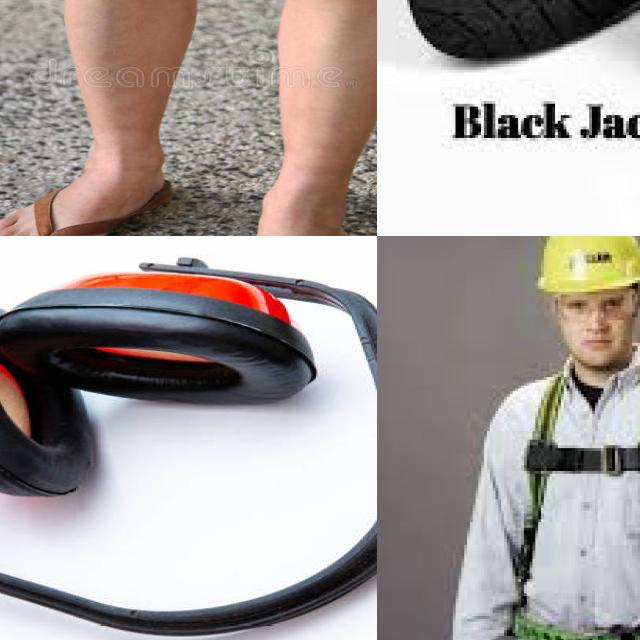Ear-protection: (0, 236, 377, 640)
Harness: (501, 358, 640, 640)
Sandals: (387, 0, 640, 210), (0, 135, 172, 236), (236, 183, 377, 236)
